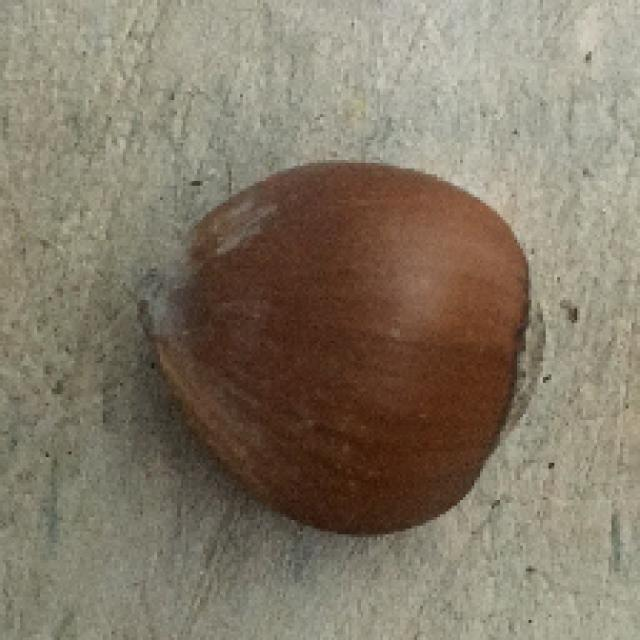qualityHazelnut: (116, 157, 558, 533)
